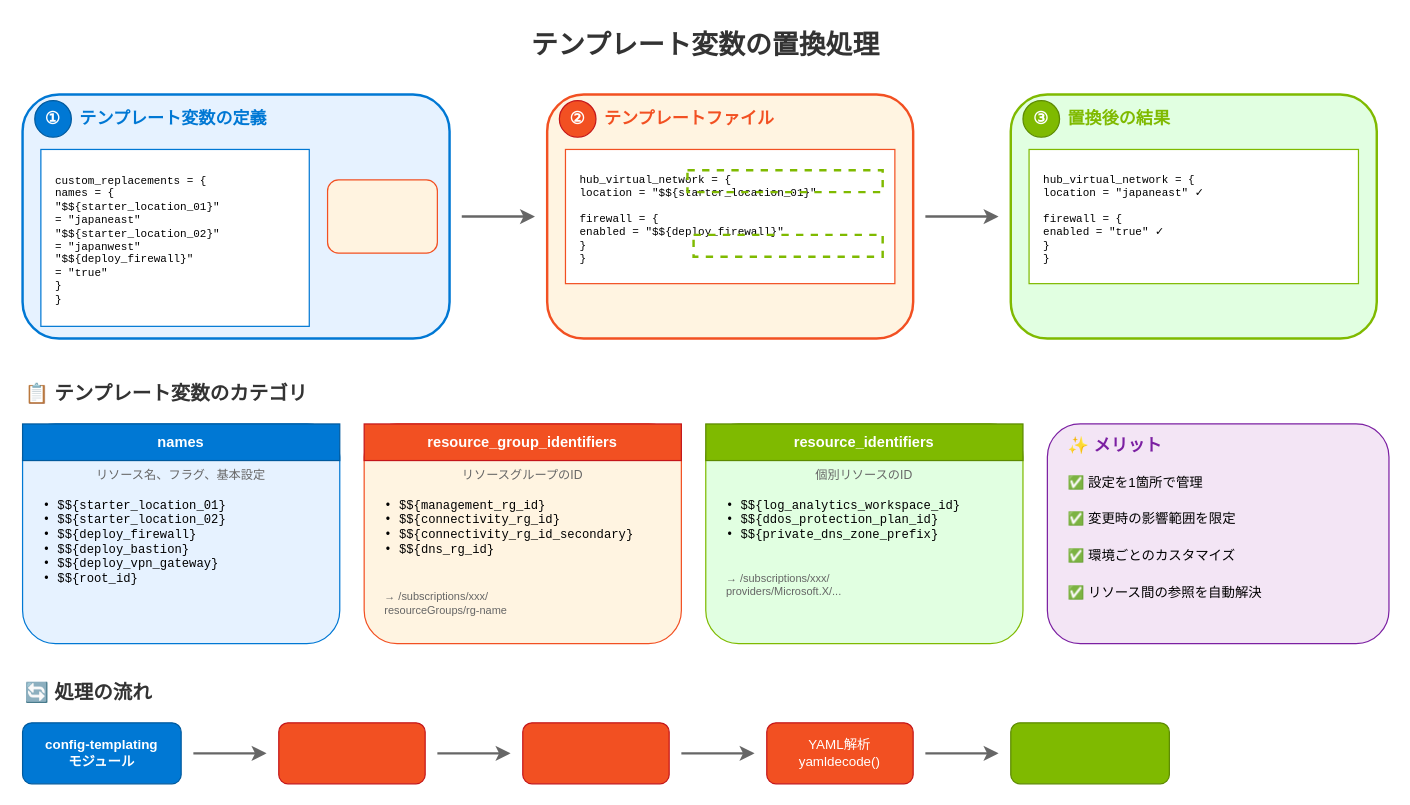
This 1410x805 diagram has some shape labels left out. The box of each missing label's shape, as (x1, y1, x2, y2) in pixels:
$${...} ↓ プレースホルダー: (326, 179, 437, 253)
YAML読込 templatefile(): (278, 722, 425, 784)
変数置換 replace(): (522, 722, 669, 784)
設定オブジェクト 生成: (1010, 722, 1169, 784)
